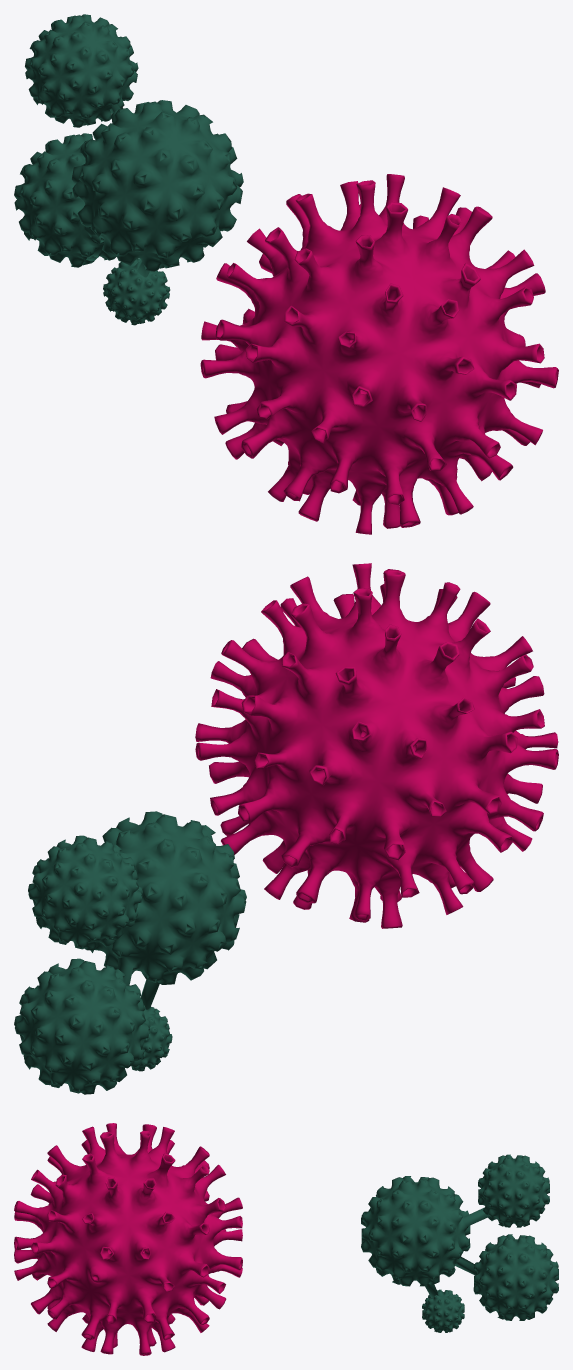
The model's file is virus baby.gltf.
The picture shows the model from 3 angles, top to bottom: view 1: azimuth 30°, elevation 25°; view 2: azimuth 150°, elevation 25°; view 3: azimuth 270°, elevation 25°; orthographic projection. The views are drawn at different scales.
Visible parts, largest first — view 1: shapes, shapes.003; view 2: shapes, shapes.003; view 3: shapes, shapes.003.
Boxes of the visible parts, bbox=[...] form: shapes: bbox=[200, 174, 558, 534]; shapes.003: bbox=[14, 14, 243, 325]; shapes: bbox=[195, 563, 558, 928]; shapes.003: bbox=[14, 811, 246, 1094]; shapes: bbox=[14, 1123, 242, 1355]; shapes.003: bbox=[361, 1154, 558, 1332].
Bounding box in the file's own units: 0.8289 × 0.8619 × 1.99.
